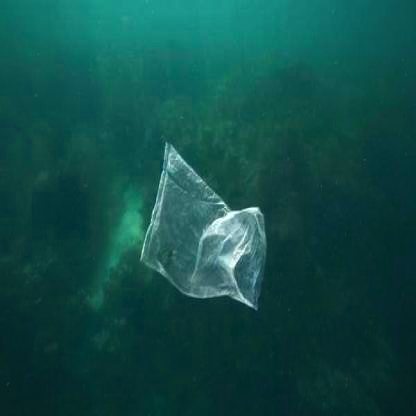pbag: (139, 140, 268, 315)
